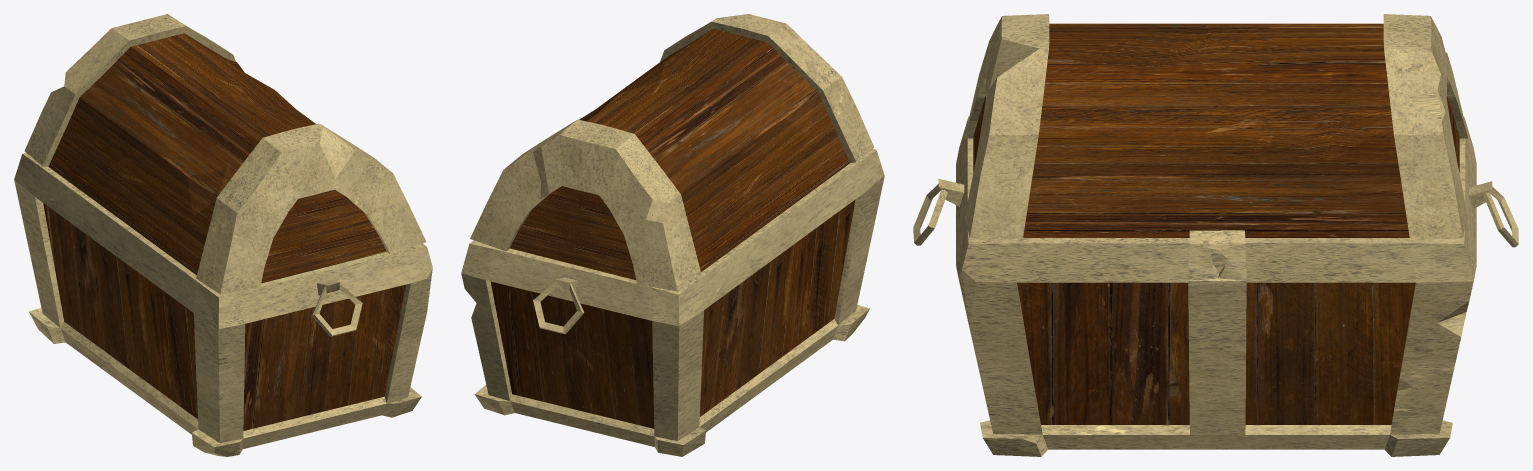
File: chestfinal3.fbx
The picture shows the model from 3 angles, left to right: view 1: azimuth 30°, elevation 25°; view 2: azimuth 150°, elevation 25°; view 3: azimuth 270°, elevation 25°; orthographic projection. The views are drawn at different scales.
Parts seen in each view (by area): view 1: ChestBase, ChestLid, pasted__pDisc1, pasted__pasted__pTorus1; view 2: ChestBase, ChestLid, pDisc1, pasted__pTorus1; view 3: ChestBase, ChestLid, pasted__pasted__pTorus1, pasted__pTorus1.
Boxes of the visible parts, bbox=[...] form: ChestBase: bbox=[14, 152, 432, 456]; ChestLid: bbox=[24, 14, 426, 294]; pasted__pDisc1: bbox=[261, 189, 386, 282]; pasted__pasted__pTorus1: bbox=[312, 280, 362, 336]; ChestBase: bbox=[461, 149, 884, 456]; ChestLid: bbox=[470, 14, 874, 291]; pDisc1: bbox=[509, 186, 652, 279]; pasted__pTorus1: bbox=[533, 277, 584, 334]; ChestBase: bbox=[956, 116, 1476, 456]; ChestLid: bbox=[964, 14, 1467, 238]; pasted__pasted__pTorus1: bbox=[913, 179, 964, 245]; pasted__pTorus1: bbox=[1469, 181, 1518, 247].
Bounding box in the file's own units: 2.67 × 3.21 × 4.84.
5 materials, 4 textured.
